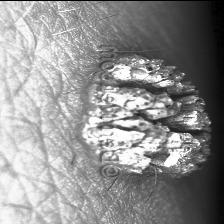Toxin: (86, 62, 202, 168)
